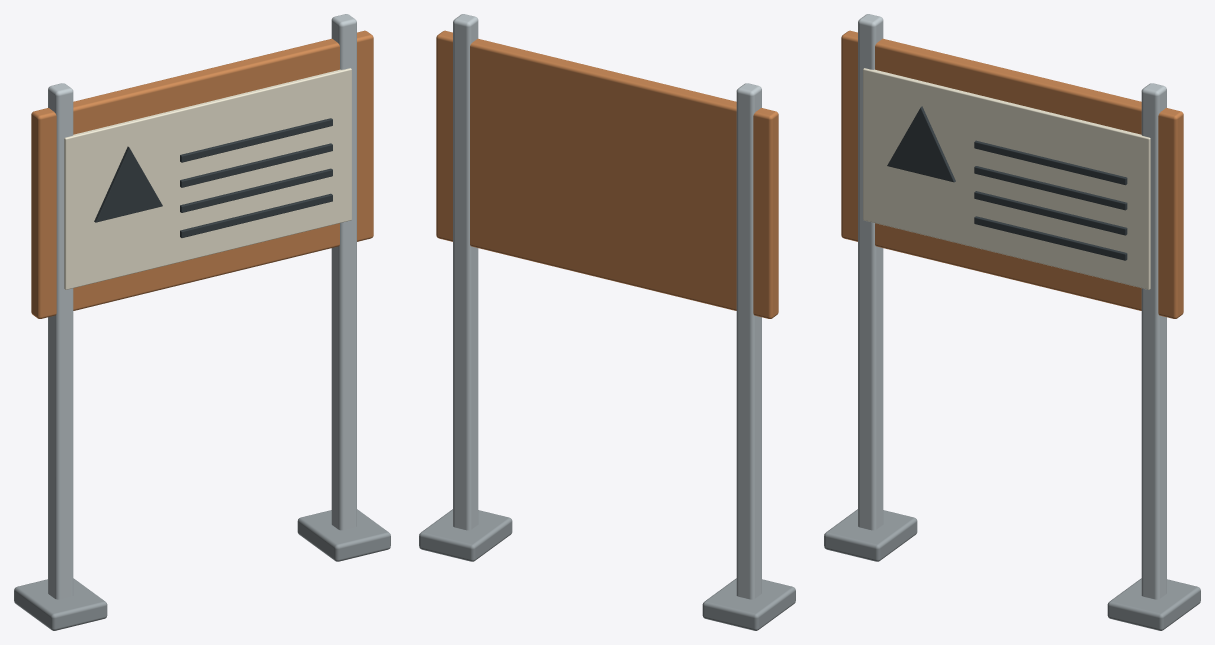
Rendered from abandoned-weather-station-and-storm-shelter-station-wa-57af2ee4__31051.glb.
The picture shows the model from 3 angles, left to right: view 1: azimuth 30°, elevation 25°; view 2: azimuth 150°, elevation 25°; view 3: azimuth 330°, elevation 25°; orthographic projection.
Visible parts, largest first — view 1: station-warning-board; view 2: station-warning-board; view 3: station-warning-board.
Boxes of the visible parts, box(x1,y1,x2,y2) form: station-warning-board: box(14, 14, 390, 630); station-warning-board: box(419, 14, 795, 630); station-warning-board: box(824, 14, 1200, 630).
Size of the model in its own units: 1.03 by 1.52 by 0.21.
